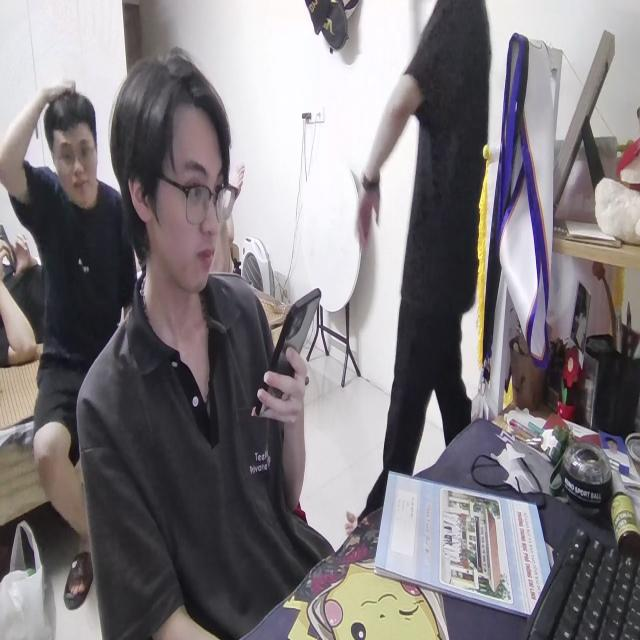book: (371, 467, 551, 625)
extra_person: (0, 76, 146, 607), (357, 7, 490, 515)
phone: (259, 284, 320, 423)
student: (75, 54, 332, 640)
